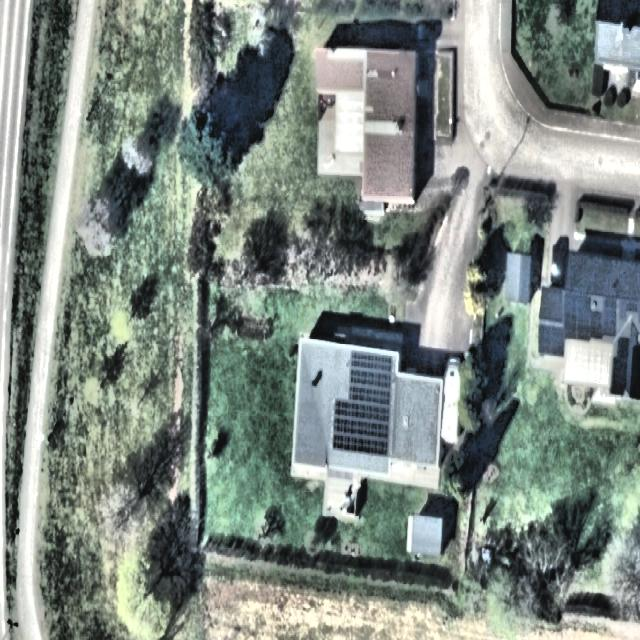roof_pv: (332, 402, 390, 454), (347, 348, 393, 403), (610, 334, 630, 396), (566, 292, 590, 338), (538, 326, 566, 356), (604, 300, 616, 336), (590, 313, 602, 341)
